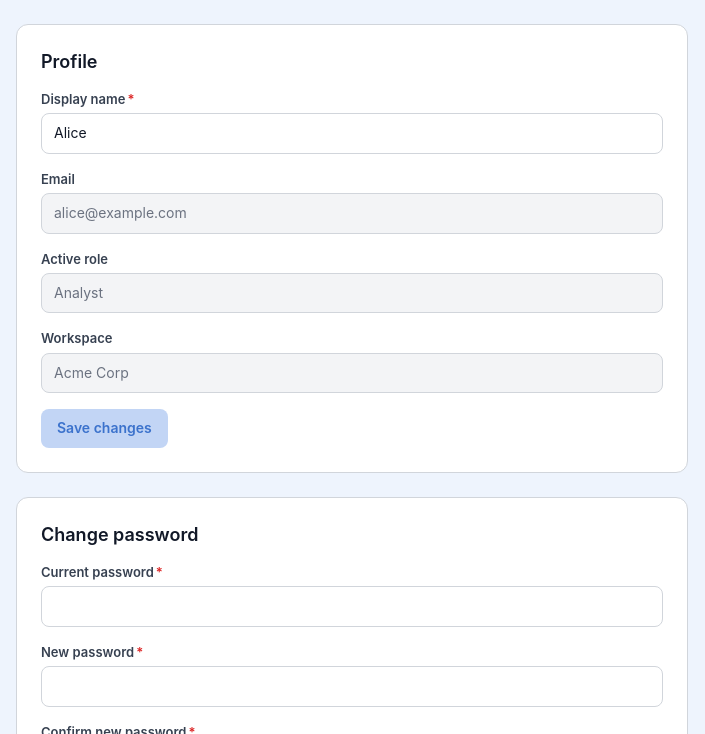
Test: AccountPage password section › shows password mismatch error when confirm differs
Check: the heading "Change password" is shown, box [41, 524, 198, 545]
# Use regex to match labels that may contain an aria-hidden asterisk
In the password field labelled "Current password*": (352, 607) [41, 586, 663, 627], type "OldPass1!"
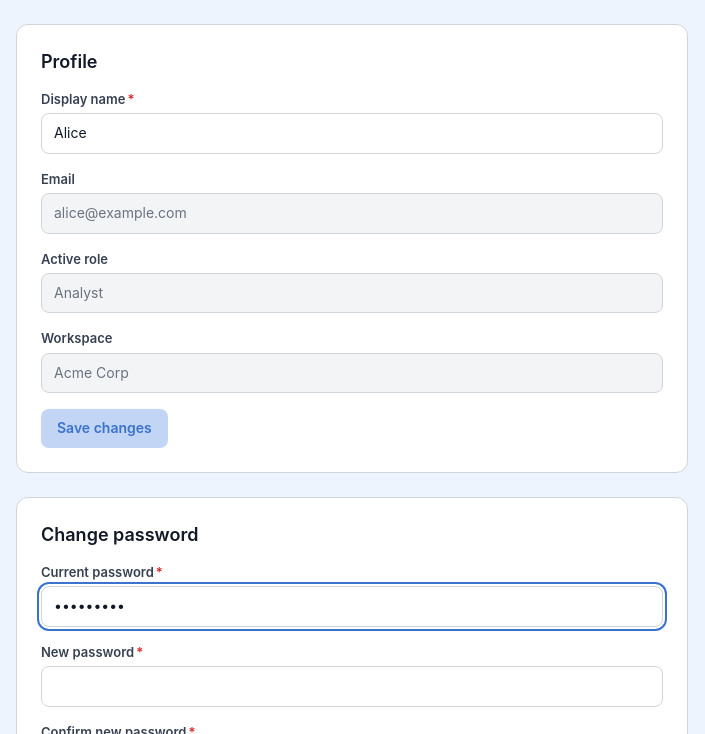
In the password field labelled "New password*": (352, 686) [41, 666, 663, 707], type "NewPass1!"
(page scrolled)
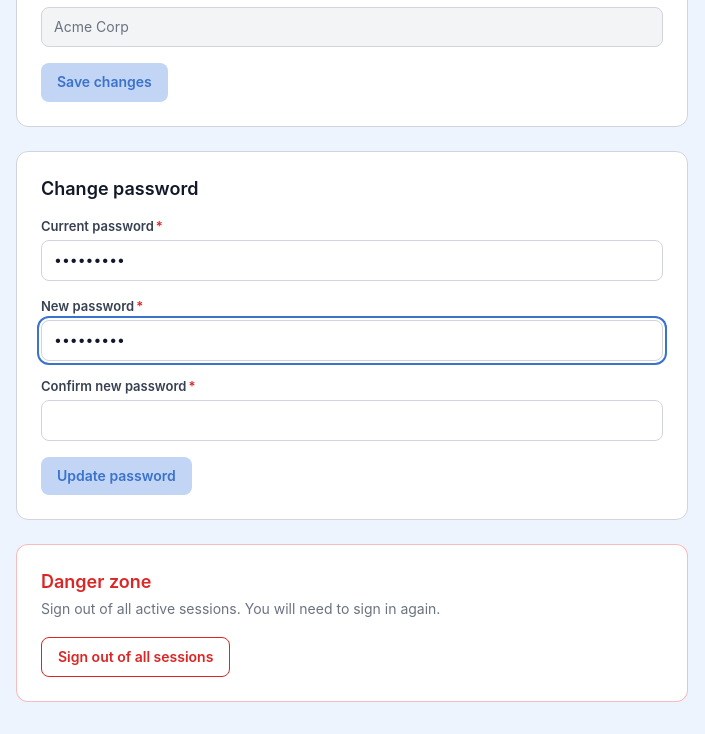
In the password field labelled "Confirm new password*": (352, 420) [41, 400, 663, 441], type "Different1!"
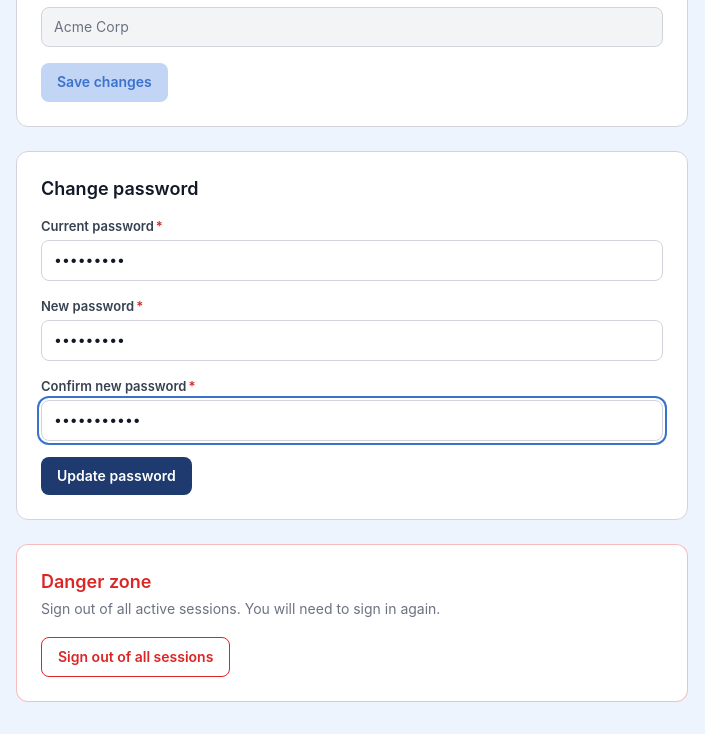
Click the button "Update password": (116, 476) [41, 457, 192, 495]
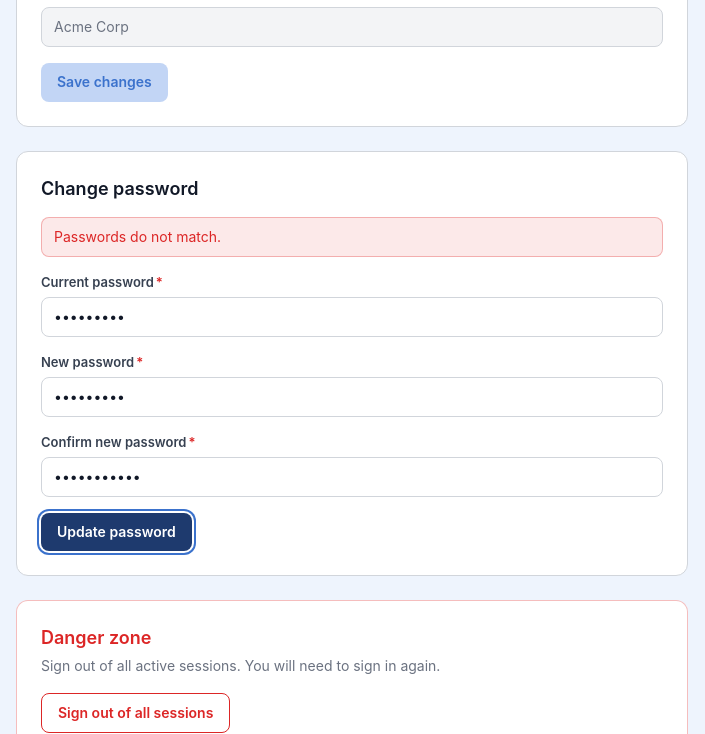
Check: the text "Passwords do not match." is shown, box [41, 217, 663, 257]
